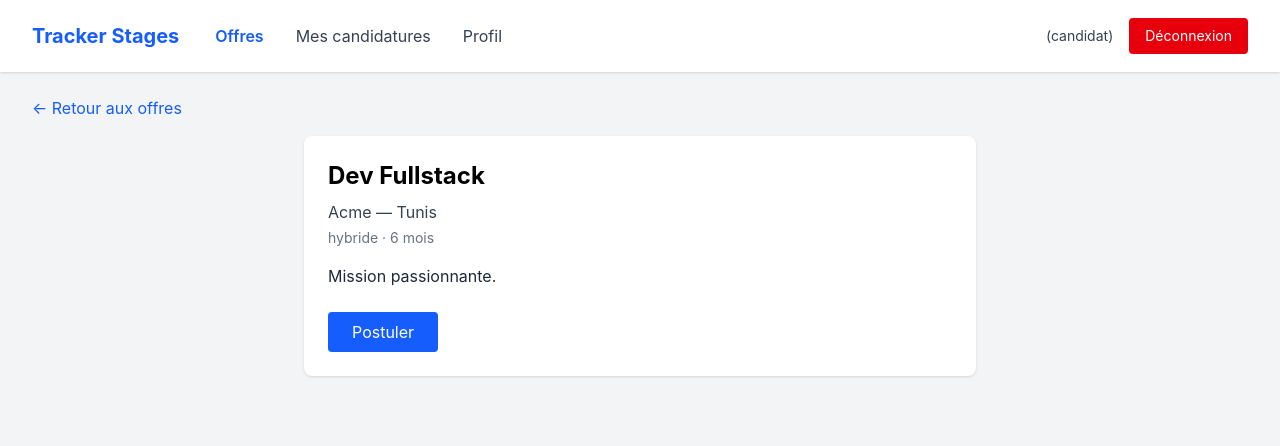
Test: OffreDetailPage › postuler envoie la candidature et désactive le bouton après succès
The image size is (1280, 446).
Click the button "Postuler" at (383, 332), box [328,312,438,352]
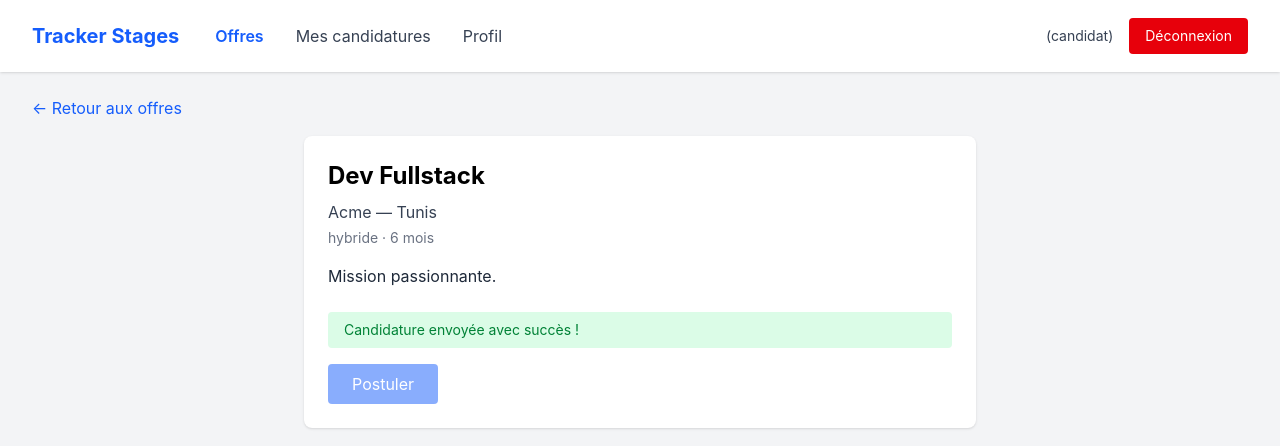
Now the text "Candidature envoyée avec succès !" is shown, box [328,312,952,348]
Now the button "Postuler" is disabled, box [328,364,438,404]
